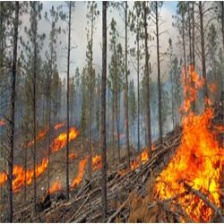fire: (154, 59, 224, 220), (51, 120, 151, 188), (5, 162, 44, 189)
